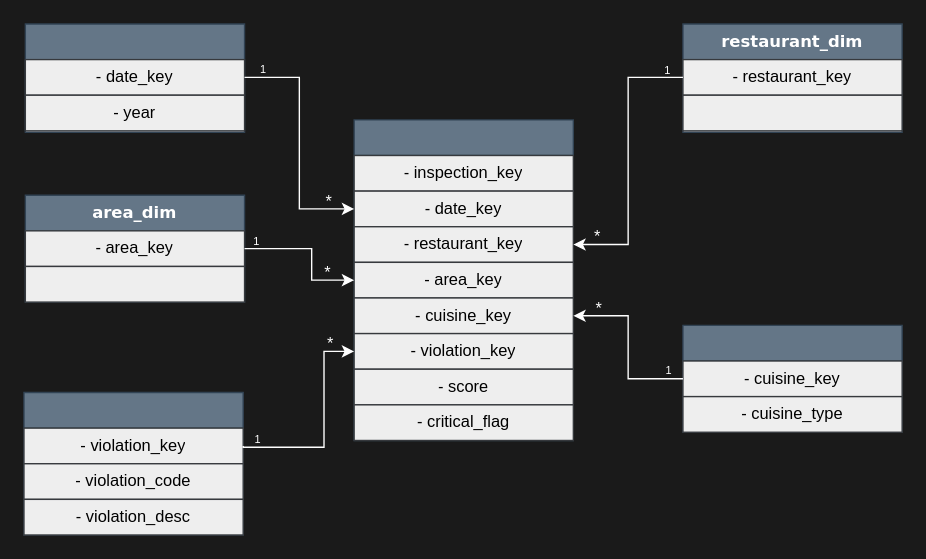
This 926x559 diagram has some shape labels left out. The box of each missing label's shape, as (x1, y1, x2, y2) in pixels:
- area_name: (24, 265, 245, 302)
- restaurant_id: (682, 94, 902, 131)
cuisine_dim: (682, 324, 902, 432)
date_dim: (24, 23, 245, 132)
fact_inspections: (353, 119, 573, 440)
violation_dim: (23, 391, 243, 535)
